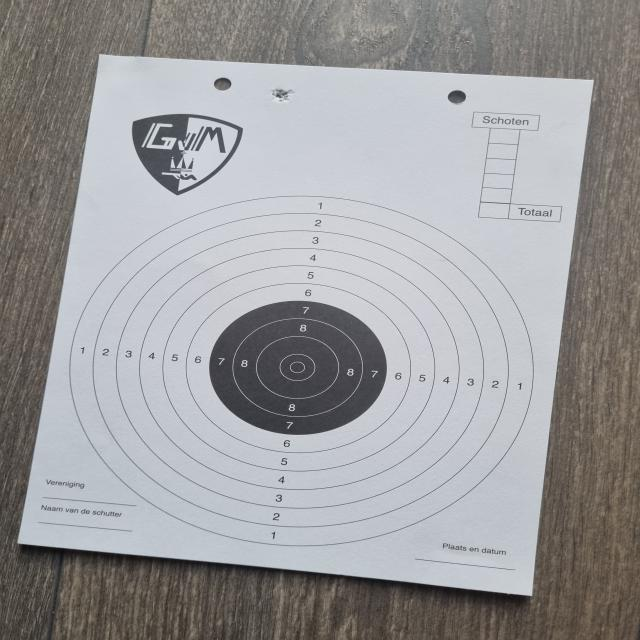0: (270, 88, 292, 104)
Target: (68, 195, 535, 548)
black_contour: (210, 302, 388, 436)
